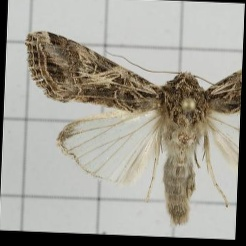Spodoptera litura: (20, 34, 239, 223)
